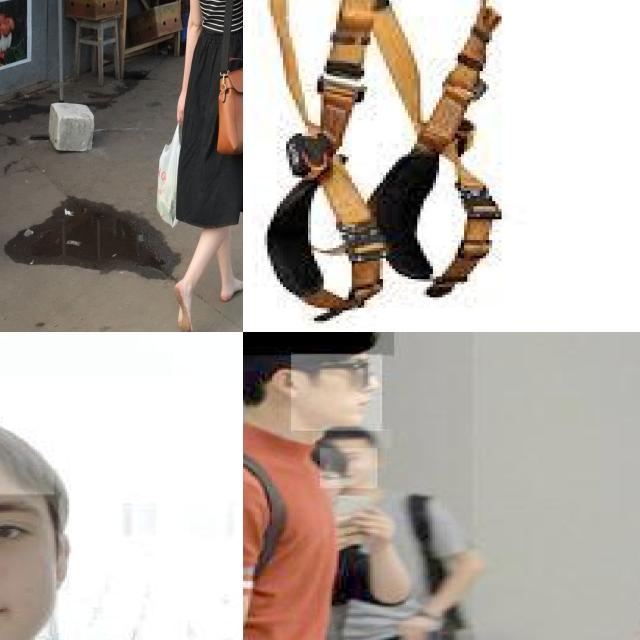Barefoots: (173, 279, 193, 332), (220, 278, 243, 302)
Harness: (250, 0, 516, 325)
No_Ear-Protection: (266, 364, 308, 398)
No_Glasses: (0, 484, 47, 568)
face_nomask: (0, 495, 58, 640), (291, 354, 382, 431), (320, 448, 377, 488)
hand_noglove: (342, 501, 402, 549), (398, 612, 444, 640)
head_nohelmet: (0, 418, 54, 493), (243, 332, 394, 355), (313, 429, 392, 448)
person: (243, 332, 475, 640), (0, 378, 243, 640)
